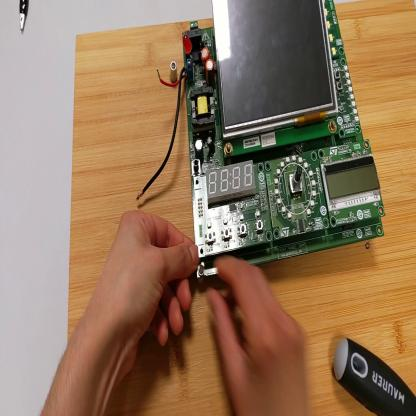hand: (95, 211, 201, 377), (209, 255, 312, 414)
low voltage board: (138, 2, 387, 278)
screwdriver-: (334, 342, 416, 415)
working area: (68, 2, 416, 416)
